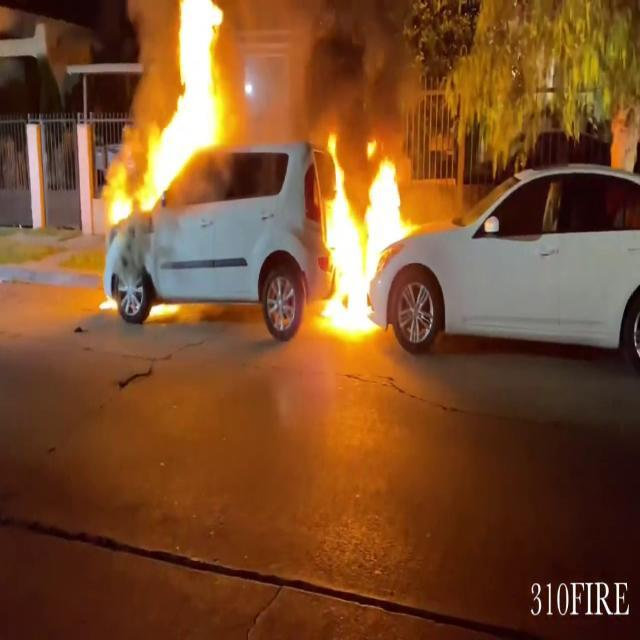Fire: (107, 0, 237, 223), (312, 127, 411, 340)
Smoke: (222, 0, 418, 143)
